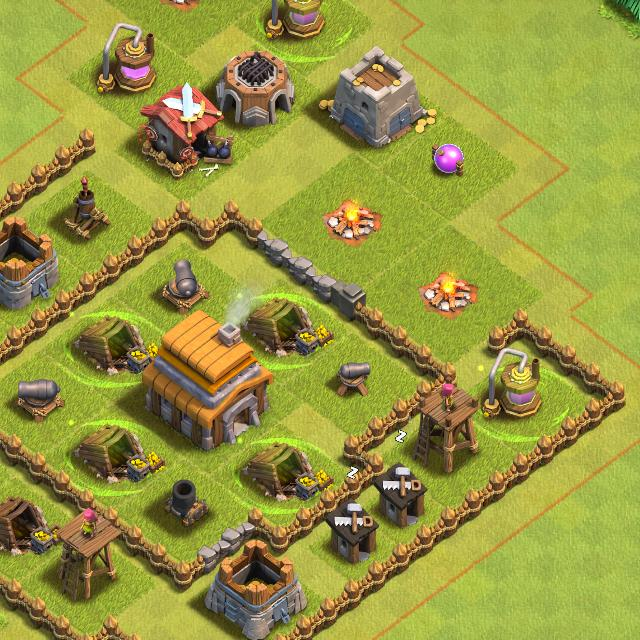Arqueira: (54, 506, 122, 606), (416, 381, 481, 474)
Canhao: (157, 259, 210, 317), (12, 372, 69, 425), (329, 353, 380, 402)
